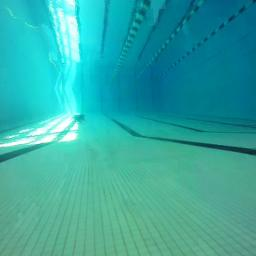Full: (72, 113, 86, 124)
